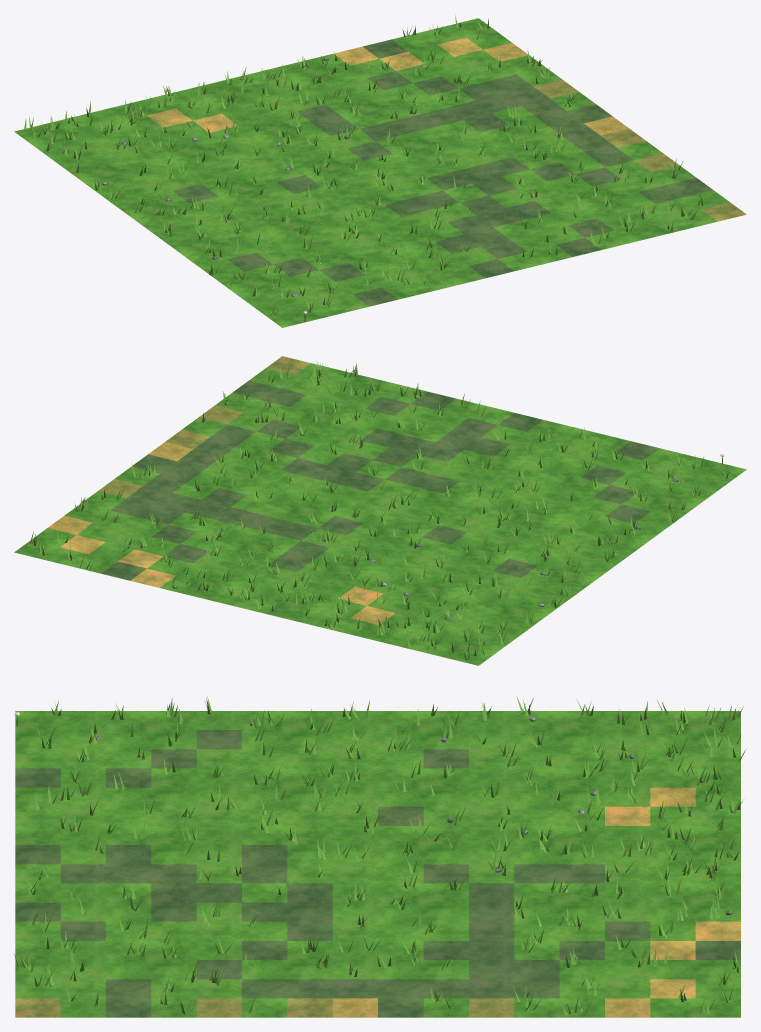
The model's file is chunk_7_14.glb.
3 views of the same model, one above another, from view 1: azimuth 30°, elevation 25°; view 2: azimuth 150°, elevation 25°; view 3: azimuth 270°, elevation 25° (orthographic). The views are drawn at different scales.
Visible parts, largest first — view 1: chunk_7_14; view 2: chunk_7_14; view 3: chunk_7_14.
Boxes of the visible parts, <box> form: chunk_7_14: <box>14,14,746,327</box>; chunk_7_14: <box>14,356,746,665</box>; chunk_7_14: <box>14,696,745,1017</box>.
Bounding box in the file's own units: 16.15 × 0.4598 × 16.16.
10 materials, 8 textured.
